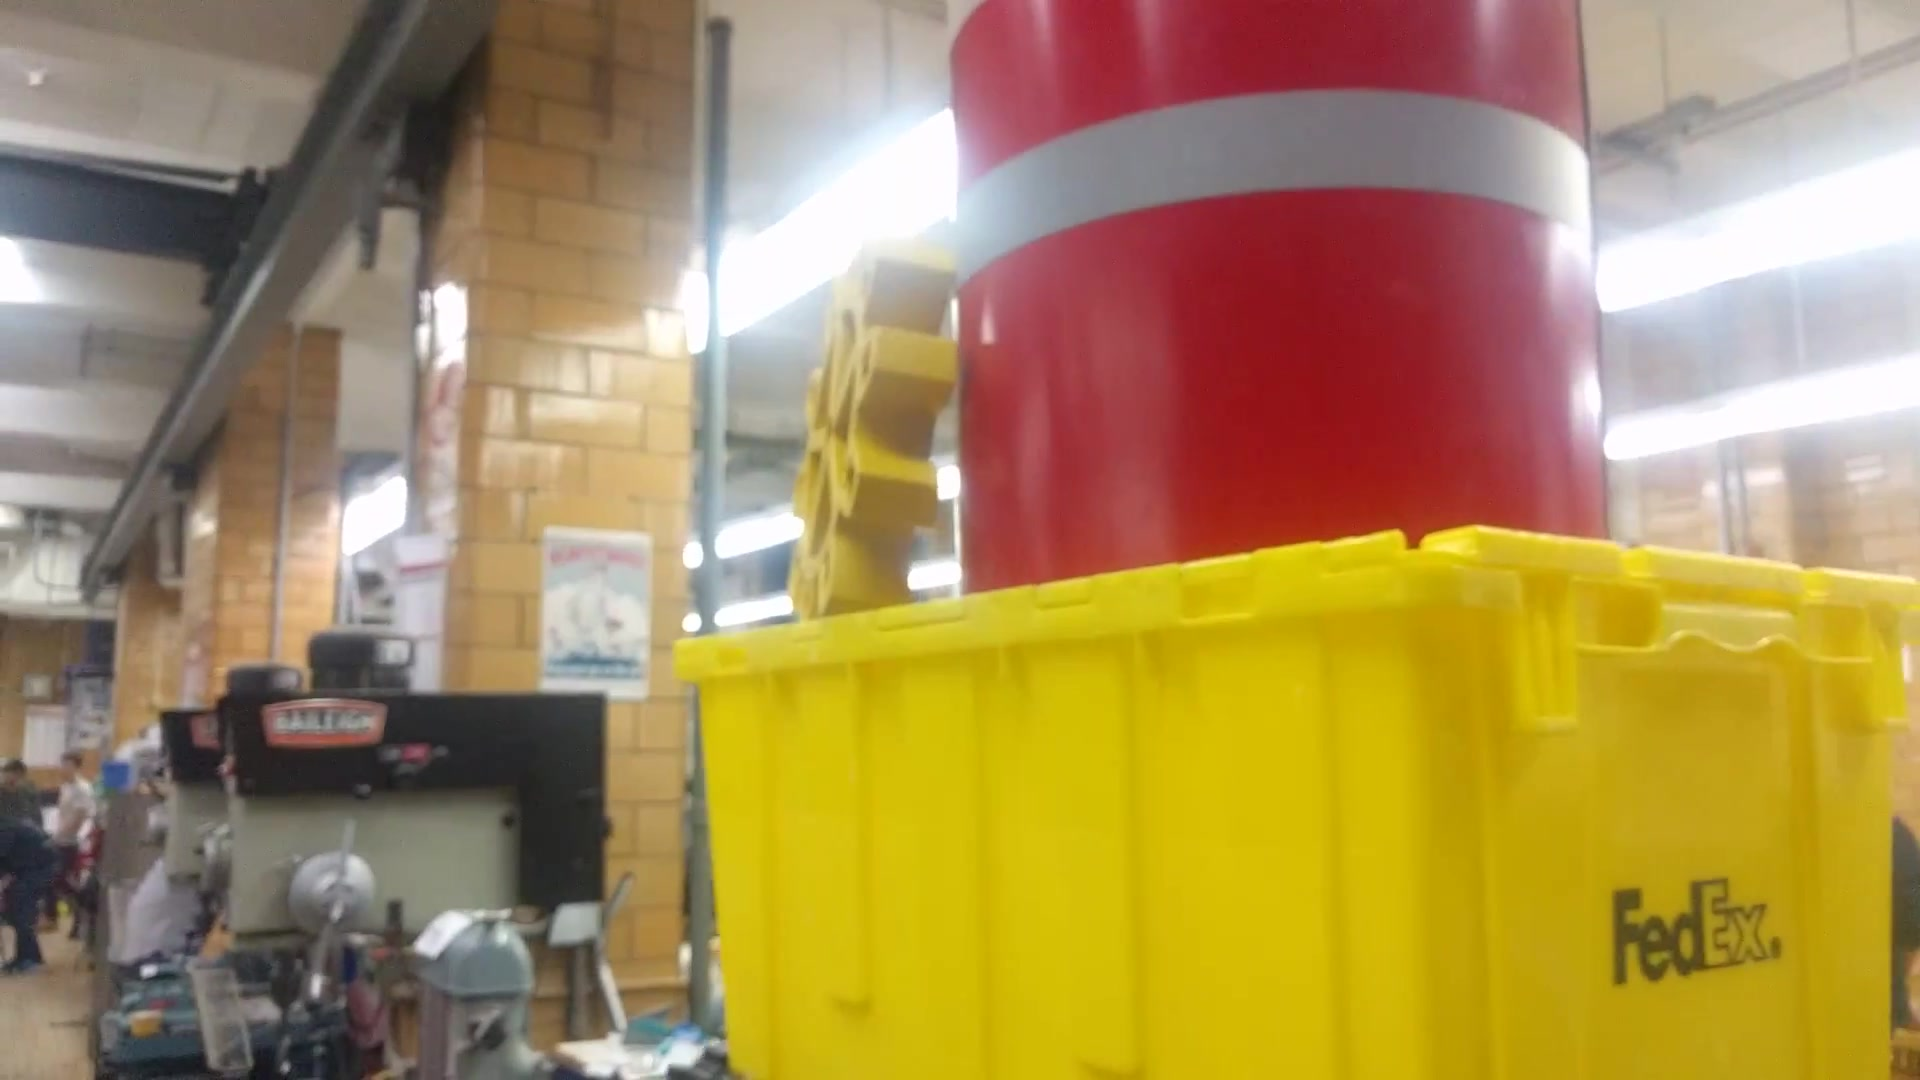gear: (766, 207, 988, 641)
